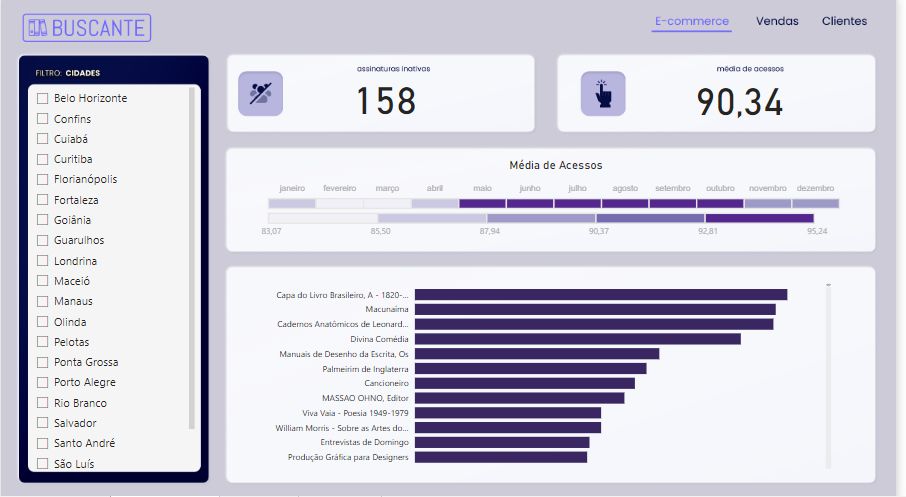

This screenshot's page, from the dashboard's own definition file:
{"tool":"powerbi","page":{"name":"E-commerce","canvas":[1280,720],"ordinal":0},"visuals":[{"type":"slicer","fields":{"Values":["Clientes.Cidade"]},"box":[38.6,122.9,242.9,555.7],"z":0},{"type":"card","fields":{"Values":["Clientes.Assinatura ativa"]},"box":[421.4,82.9,254.3,112.9],"z":1},{"type":"card","fields":{"Values":["Acessos na página.Acessos"]},"box":[951.4,87.1,207.1,108.6],"z":2},{"type":"TableHeatMap1443716069308","title":"Média de Acessos ","fields":{"Y":["Acessos na página.Acessos"],"Category":["Acessos na página.Data.Variation.Hierarquia de datas.Mês"]},"box":[367.1,228.6,851.4,142.9],"z":3},{"type":"clusteredBarChart","fields":{"Category":["Catálogo livros.Titulo"],"Y":["Catálogo livros.Valor"]},"box":[374.3,394.3,817.1,284.3],"z":4},{"type":"actionButton","box":[1055.7,17.1,102.9,44.3],"z":5},{"type":"actionButton","box":[1158.6,17.1,100,40],"z":6}]}

Visuals, with their boxes in screenshot pixels (x1, y1, x2, y2), scaled from the page's 1280x720 canvas onto the 906x497 screenshot:
slicer - Clientes.Cidade: (27,85,199,468)
card - Clientes.Assinatura ativa: (298,57,478,135)
card - Acessos na página.Acessos: (673,60,820,135)
"Média de Acessos " TableHeatMap1443716069308: (260,158,862,256)
clusteredBarChart - Catálogo livros.Titulo x Catálogo livros.Valor: (265,272,843,468)
actionButton: (747,12,820,42)
actionButton: (820,12,891,39)
